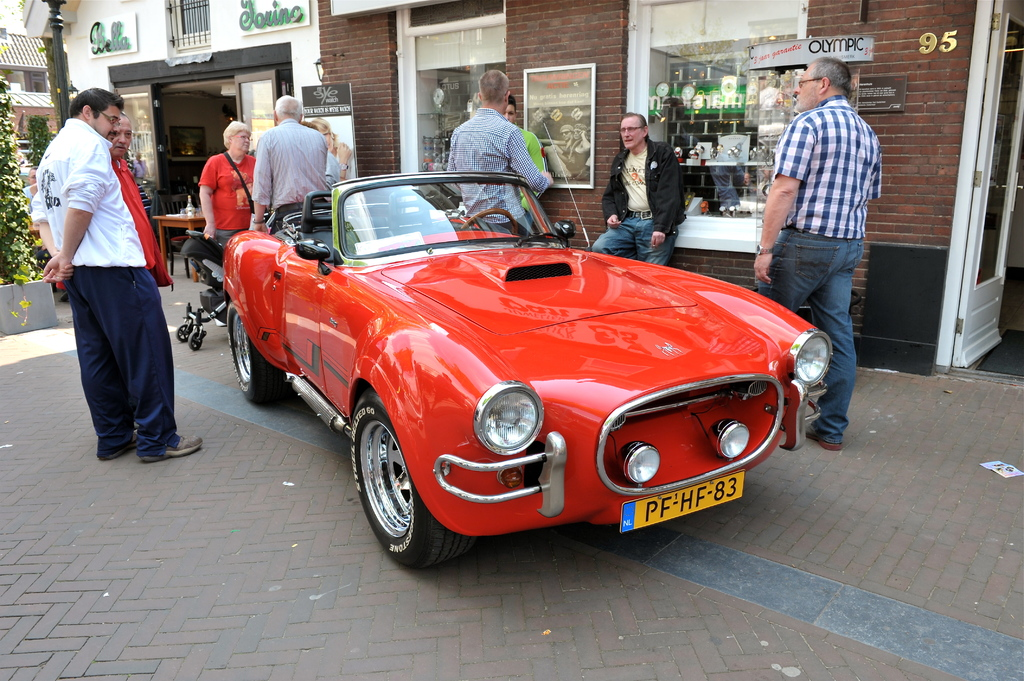Car: (215, 174, 832, 568)
